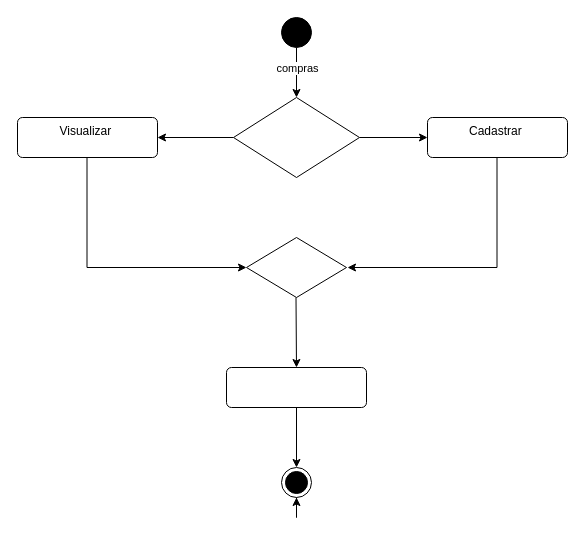
Image size: 585x543. Some labels were removed from this diagram. The centre of each missing label's shape, as x and y in pixels:
Abre o menu: pixel 296 137
Inserir dados necessários: pixel 296 387
